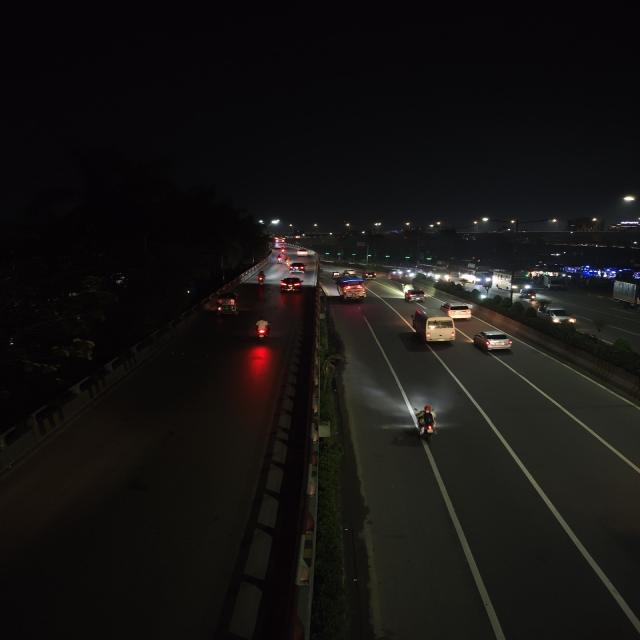bus: (493, 269, 535, 293), (336, 277, 367, 303), (458, 266, 492, 284), (416, 264, 449, 281), (387, 268, 411, 280)
car: (408, 308, 458, 346), (471, 328, 514, 355), (543, 307, 578, 327), (440, 301, 474, 320), (402, 287, 429, 303), (279, 276, 305, 292), (288, 262, 306, 274), (297, 248, 310, 257)
cng: (214, 292, 242, 316)
motorcycle: (408, 402, 444, 442), (252, 317, 274, 343), (256, 272, 267, 285), (274, 254, 285, 264)
truck: (611, 274, 640, 314), (544, 275, 568, 291)
